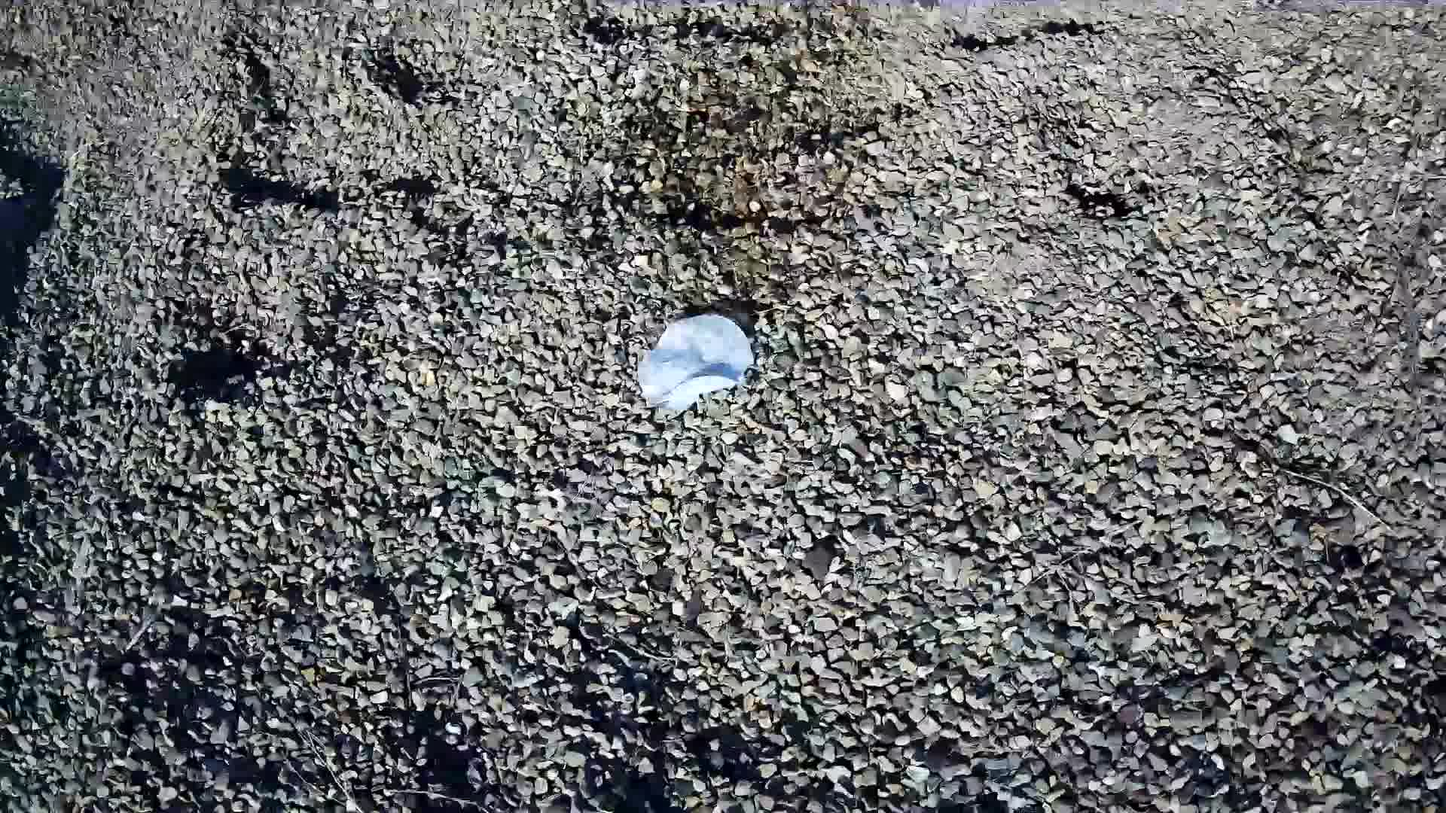Target: (634, 314, 757, 412)
